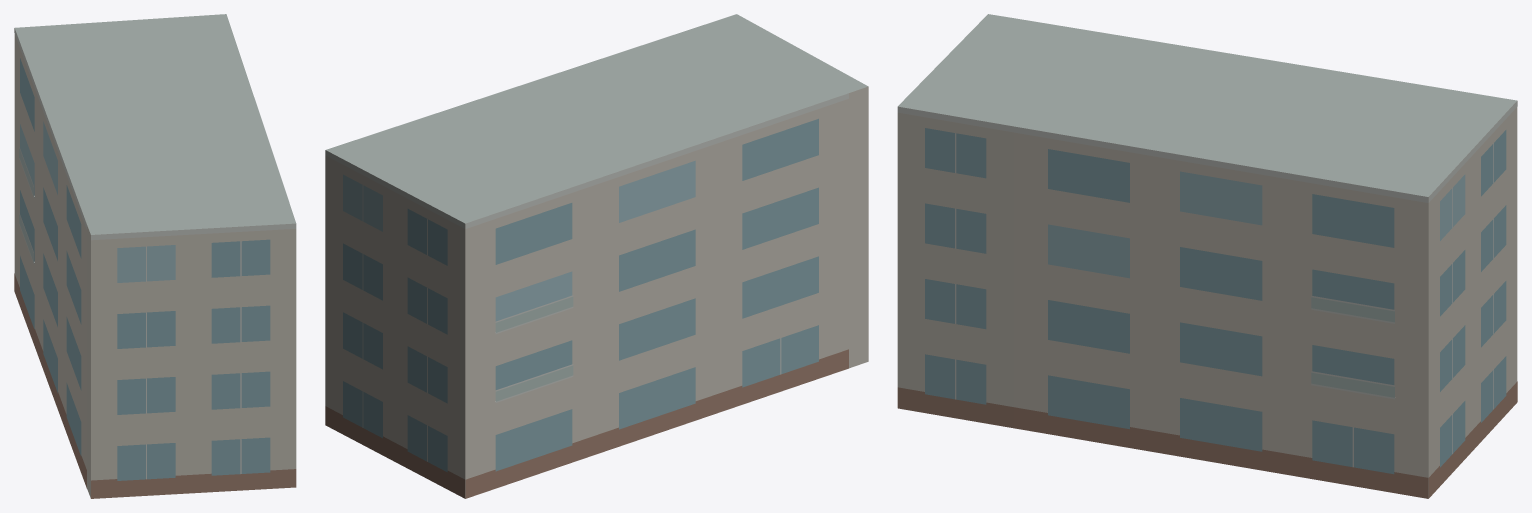
Rendered from survey-upis-32496553.glb.
3 renders of one model, left to right at view 1: azimuth 30°, elevation 25°; view 2: azimuth 150°, elevation 25°; view 3: azimuth 270°, elevation 25°, orthographic. The views are drawn at different scales.
Visible parts, largest first — view 1: survey-upis-32496553.tmp; view 2: survey-upis-32496553.tmp; view 3: survey-upis-32496553.tmp.
Boxes of the visible parts, left/top/right/bottom form: survey-upis-32496553.tmp: left=14, top=14, right=296, bottom=498; survey-upis-32496553.tmp: left=325, top=14, right=868, bottom=498; survey-upis-32496553.tmp: left=897, top=14, right=1517, bottom=498.
Bounding box in the file's own units: 15.88 × 12.2 × 22.72.
